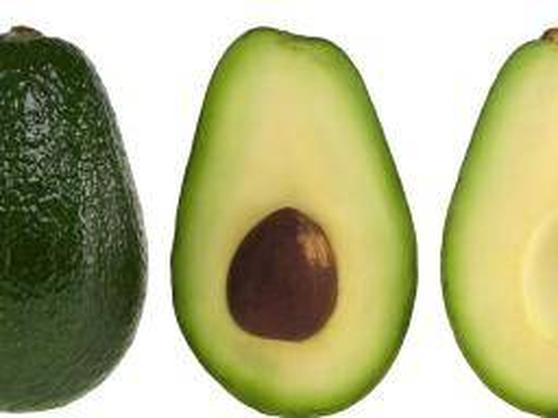avocado: (2, 23, 162, 418)
